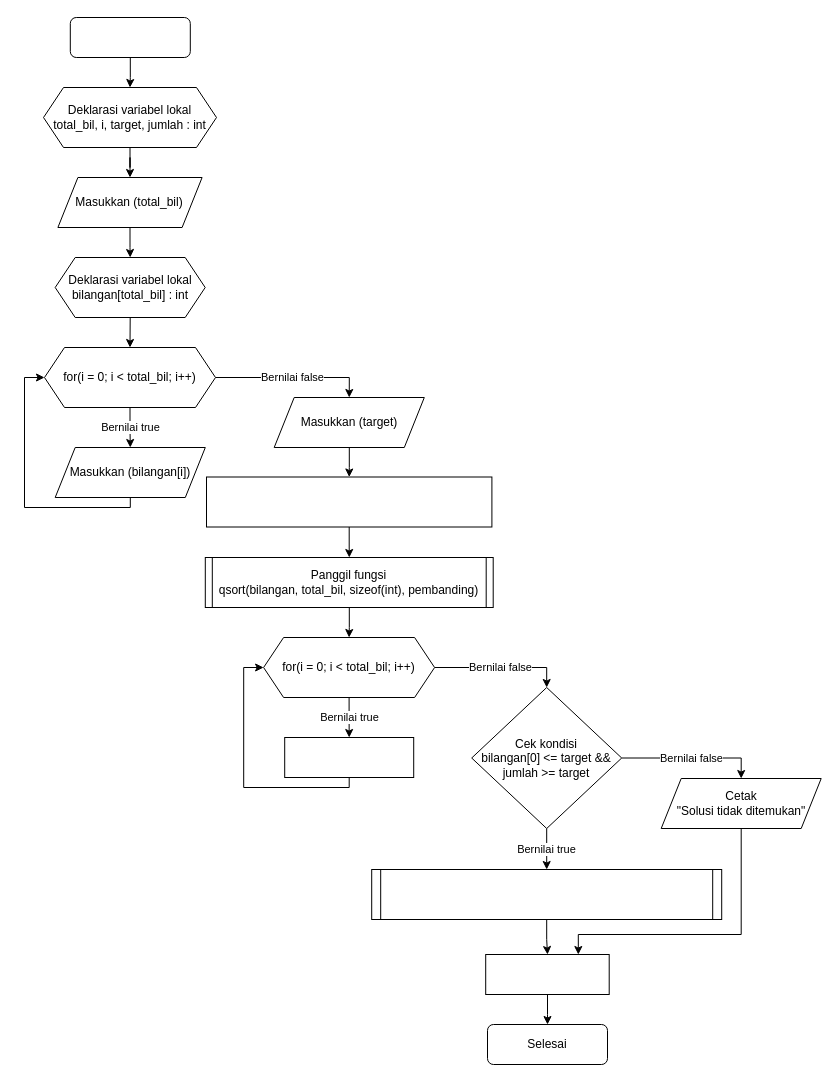
This 839x1082 diagram has some shape labels left out. Each missing label, with the box of its shape:
Eksekusi free(ukuran_solusi): (485, 954, 609, 994)
Eksekusi int *ukuran_solusi = (int*)malloc(total_bil * sizeof(int)): (206, 476, 492, 527)
Eksekusi jumlah += bilangan[i]: (284, 736, 414, 778)
Mulai: (69, 16, 190, 58)
Panggil fungsi subset_sum(bilangan, total_bil, ukuran_solusi, 0, 0, 0, target): (371, 868, 722, 920)
